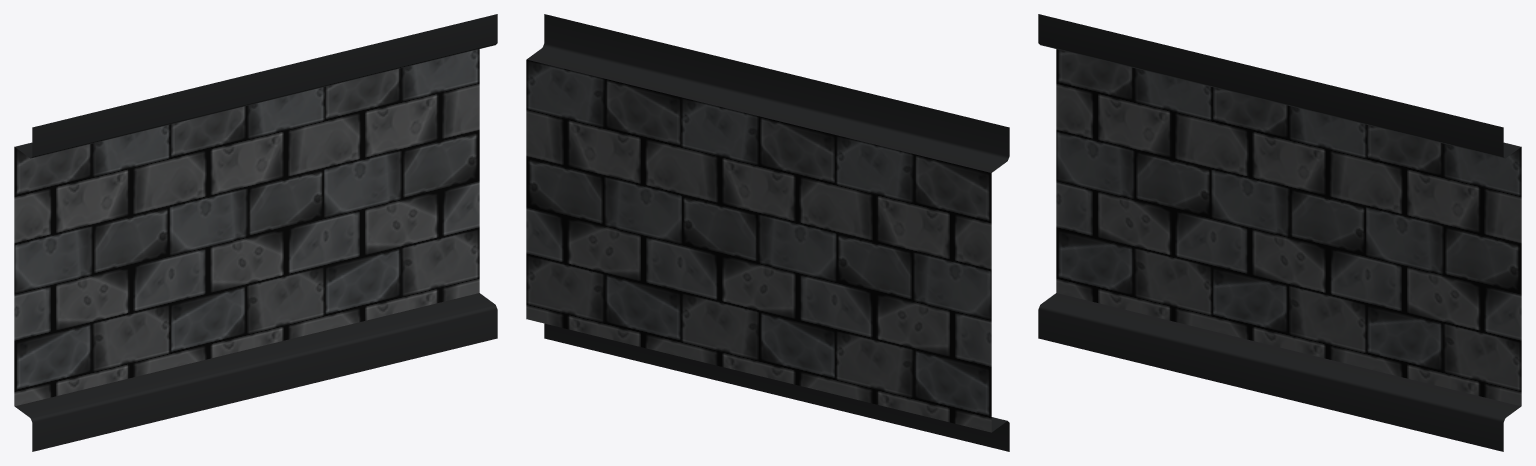
The model's file is M_Wall_3m_Half_Up.fbx.
3 renders of one model, left to right at view 1: azimuth 30°, elevation 25°; view 2: azimuth 150°, elevation 25°; view 3: azimuth 330°, elevation 25°, orthographic.
Visible parts, largest first — view 1: Wall_Big_3m_Half_Up; view 2: Wall_Big_3m_Half_Up; view 3: Wall_Big_3m_Half_Up.
Part boxes in pixels (box(x1,y1,x2,y2)): Wall_Big_3m_Half_Up: box(14, 14, 497, 451); Wall_Big_3m_Half_Up: box(526, 14, 1009, 451); Wall_Big_3m_Half_Up: box(1038, 14, 1521, 451).
Size of the model in its own units: 300 by 200 by 20.
